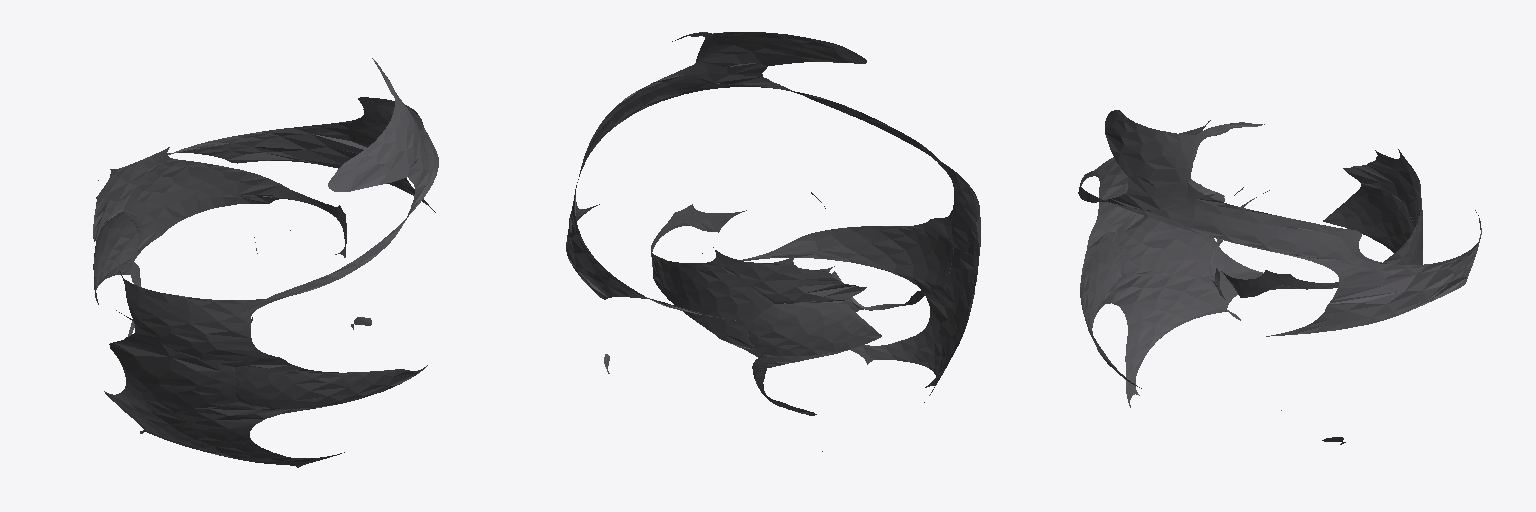
Rendered from Explosion3.obj.
The picture shows the model from 3 angles: view 1: azimuth 30°, elevation 25°; view 2: azimuth 150°, elevation 25°; view 3: azimuth 270°, elevation 25°; orthographic projection.
Visible parts, largest first — view 1: Lightwind1; view 2: Lightwind1; view 3: Lightwind1.
Boxes of the visible parts, <box> form: Lightwind1: <box>93,58,438,467</box>; Lightwind1: <box>566,32,980,451</box>; Lightwind1: <box>1078,110,1481,444</box>.
Size of the model in its own units: 9.87 by 9.87 by 9.87.